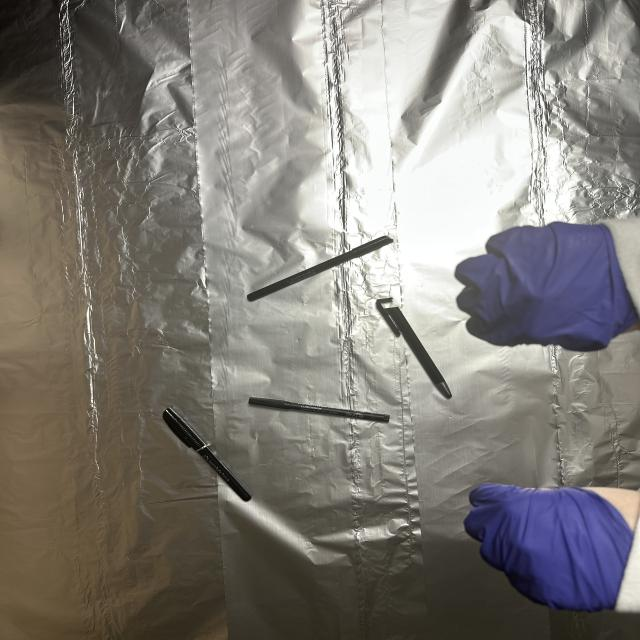glove_partial: (451, 222, 640, 352), (463, 478, 640, 616)
